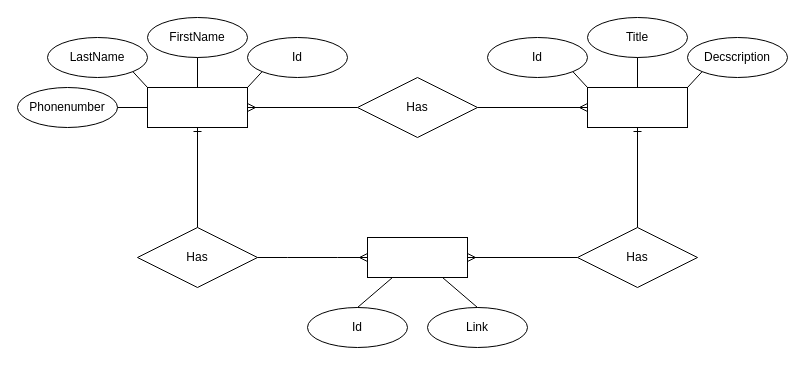
This 805x365 diagram has some shape labels left out. The centre of each missing label's shape, as x and y in pixels:
Interest: pixel 637 107
Person: pixel 197 107
WebsiteLink: pixel 417 257
